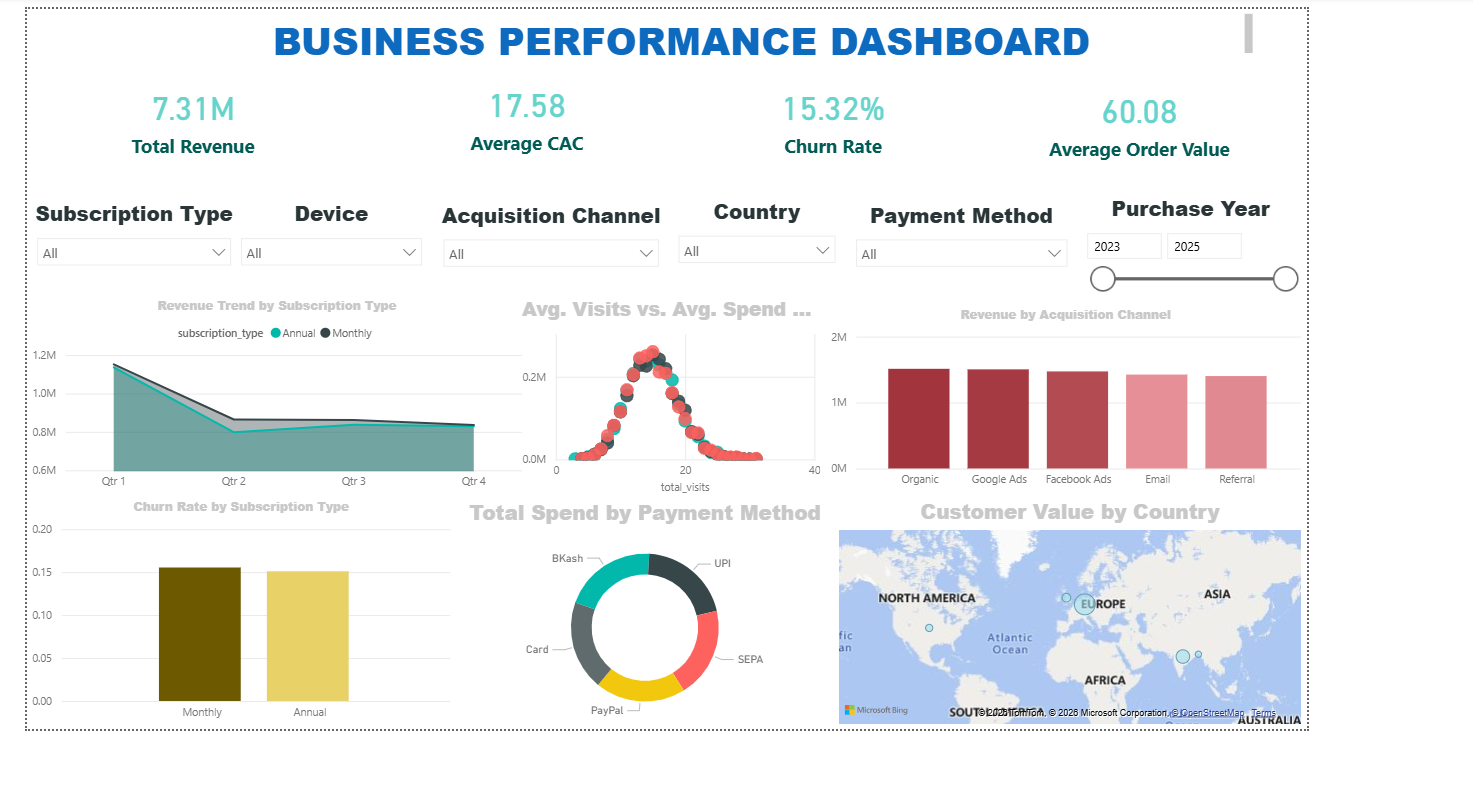

This screenshot's page, from the dashboard's own definition file:
{"tool":"powerbi","page":{"name":"Page 1","canvas":[1280,720],"ordinal":0},"visuals":[{"type":"card","title":"Total Revenue","fields":{"Values":["Sum(Final_Cleaned_PowerBI_Dataset.revenue)"]},"box":[0,52.2,332.5,113.7],"z":0},{"type":"card","fields":{"Values":["Avg(Final_Cleaned_PowerBI_Dataset.customer_acquisition_cost)"]},"box":[332.5,47.3,334.9,118.6],"z":1000},{"type":"card","fields":{"Values":["Final_Cleaned_PowerBI_Dataset.cRAte"]},"box":[639.3,52.2,334.9,113.7],"z":2000},{"type":"card","fields":{"Values":["Avg(Final_Cleaned_PowerBI_Dataset.average_order_value)"]},"box":[944.9,58.3,334.9,107.6],"z":3000},{"type":"clusteredColumnChart","title":"Revenue by Acquisition Channel","fields":{"Category":["Final_Cleaned_PowerBI_Dataset.acquisition_channel"],"Y":["Sum(Final_Cleaned_PowerBI_Dataset.revenue)"]},"box":[798.6,295.7,480,191.4],"z":4000},{"type":"clusteredColumnChart","title":"Churn Rate by Subscription Type","fields":{"Category":["Final_Cleaned_PowerBI_Dataset.subscription_type"],"Y":["Final_Cleaned_PowerBI_Dataset.Churn Rate"]},"box":[0,488.6,428.6,231.4],"z":5000},{"type":"slicer","title":"Purchase Year","fields":{"Values":["Final_Cleaned_PowerBI_Dataset.purchase_year"]},"box":[1047.6,184.5,232.3,101.5],"z":6000},{"type":"slicer","title":"Country","fields":{"Values":["Final_Cleaned_PowerBI_Dataset.country"]},"box":[641.4,188,177.1,87.1],"z":7000},{"type":"slicer","title":"Subscription Type","fields":{"Values":["Final_Cleaned_PowerBI_Dataset.subscription_type"]},"box":[0,189.4,214.3,102.9],"z":8000},{"type":"slicer","title":"Device","fields":{"Values":["Final_Cleaned_PowerBI_Dataset.device_type"]},"box":[204.3,190,201.4,115.7],"z":9000},{"type":"slicer","title":"Acquisition Channel","fields":{"Values":["Final_Cleaned_PowerBI_Dataset.acquisition_channel"]},"box":[405.7,191.4,235.7,88.6],"z":10000},{"type":"areaChart","title":"Revenue Trend by Subscription Type","fields":{"Category":["Final_Cleaned_PowerBI_Dataset.purchase_year","Final_Cleaned_PowerBI_Dataset.purchase_year_month.Variation.Date Hierarchy.Year","Final_Cleaned_PowerBI_Dataset.purchase_year_month.Variation.Date Hierarchy.Quarter","Final_Cleaned_PowerBI_Dataset.purchase_year_month.Variation.Date Hierarchy.Month","Final_Cleaned_PowerBI_Dataset.purchase_year_month.Variation.Date Hierarchy.Day"],"Series":["Final_Cleaned_PowerBI_Dataset.subscription_type"],"Y":["Sum(Final_Cleaned_PowerBI_Dataset.revenue)"]},"box":[0,287.1,500,201.4],"z":11000},{"type":"textbox","box":[111.2,0,1119.7,55],"z":12000},{"type":"map","title":"Customer Value by Country","fields":{"Category":["Final_Cleaned_PowerBI_Dataset.country"],"Size":["Sum(Final_Cleaned_PowerBI_Dataset.lifetime_value)"]},"box":[807.1,487.1,471.4,232.9],"z":13000},{"type":"donutChart","title":"Total Spend by Payment Method","fields":{"Category":["Final_Cleaned_PowerBI_Dataset.payment_method"],"Y":["Sum(Final_Cleaned_PowerBI_Dataset.total_spent)"]},"box":[428.6,488.6,378.6,231.4],"z":14000},{"type":"scatterChart","title":"Avg. Visits vs. Avg. Spend by Country","fields":{"X":["Final_Cleaned_PowerBI_Dataset.total_visits"],"Y":["Sum(Final_Cleaned_PowerBI_Dataset.total_spent)"],"Series":["Final_Cleaned_PowerBI_Dataset.device_type"]},"box":[490,285.7,308.6,202.9],"z":15000},{"type":"slicer","title":"Payment Method","fields":{"Values":["Final_Cleaned_PowerBI_Dataset.payment_method"]},"box":[818.6,190.9,231.4,90],"z":16000}]}

Visuals, with their boxes on the page's 1280x720 design canvas (x1, y1, x2, y2). These are canvas units, not pixel positions in the 1473x785 screenshot, which may show the page scaled, cropped or inside an application window:
"Total Revenue" card: select_region(0, 52, 332, 166)
card - Avg(Final_Cleaned_PowerBI_Dataset.customer_acquisition_cost): select_region(332, 47, 667, 166)
card - Final_Cleaned_PowerBI_Dataset.cRAte: select_region(639, 52, 974, 166)
card - Avg(Final_Cleaned_PowerBI_Dataset.average_order_value): select_region(945, 58, 1280, 166)
"Revenue by Acquisition Channel" clusteredColumnChart: select_region(799, 296, 1279, 487)
"Churn Rate by Subscription Type" clusteredColumnChart: select_region(0, 489, 429, 720)
"Purchase Year" slicer: select_region(1048, 184, 1280, 286)
"Country" slicer: select_region(641, 188, 818, 275)
"Subscription Type" slicer: select_region(0, 189, 214, 292)
"Device" slicer: select_region(204, 190, 406, 306)
"Acquisition Channel" slicer: select_region(406, 191, 641, 280)
"Revenue Trend by Subscription Type" areaChart: select_region(0, 287, 500, 488)
textbox: select_region(111, 0, 1231, 55)
"Customer Value by Country" map: select_region(807, 487, 1278, 720)
"Total Spend by Payment Method" donutChart: select_region(429, 489, 807, 720)
"Avg. Visits vs. Avg. Spend by Country" scatterChart: select_region(490, 286, 799, 489)
"Payment Method" slicer: select_region(819, 191, 1050, 281)
